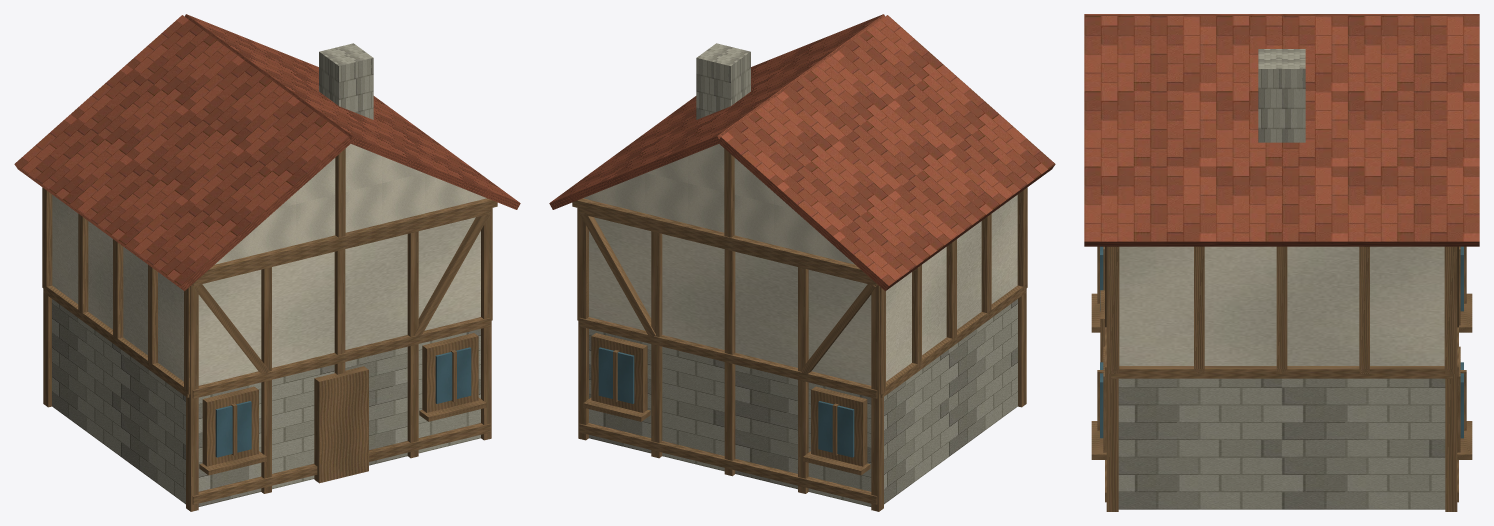
The picture shows the model from 3 angles, left to right: view 1: azimuth 30°, elevation 25°; view 2: azimuth 150°, elevation 25°; view 3: azimuth 270°, elevation 25°; orthographic projection. The views are drawn at different scales.
Visible parts, largest first — view 1: house-roof, house-wood, house-plaster, house-stone, house-glass; view 2: house-roof, house-plaster, house-wood, house-stone, house-glass; view 3: house-roof, house-stone, house-plaster, house-wood, house-glass.
Boxes of the visible parts, x1=… form: house-roof: x1=14, y1=14, x2=520, y2=291; house-wood: x1=42, y1=148, x2=497, y2=511; house-plaster: x1=52, y1=144, x2=486, y2=385; house-stone: x1=52, y1=43, x2=480, y2=506; house-glass: x1=215, y1=347, x2=471, y2=457; house-roof: x1=549, y1=14, x2=1055, y2=291; house-plaster: x1=583, y1=144, x2=1017, y2=385; house-wood: x1=572, y1=148, x2=1027, y2=511; house-stone: x1=589, y1=43, x2=1017, y2=506; house-glass: x1=598, y1=347, x2=854, y2=457; house-roof: x1=1084, y1=14, x2=1479, y2=246; house-stone: x1=1118, y1=49, x2=1445, y2=509; house-plaster: x1=1119, y1=246, x2=1444, y2=365; house-wood: x1=1091, y1=246, x2=1472, y2=511; house-glass: x1=1100, y1=246, x2=1463, y2=438.
Bounding box in the file's own units: 7.88 × 7.7 × 6.7.
Materials: 5 (5 with a texture image).
